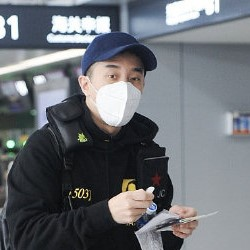mask: (84, 74, 150, 131)
